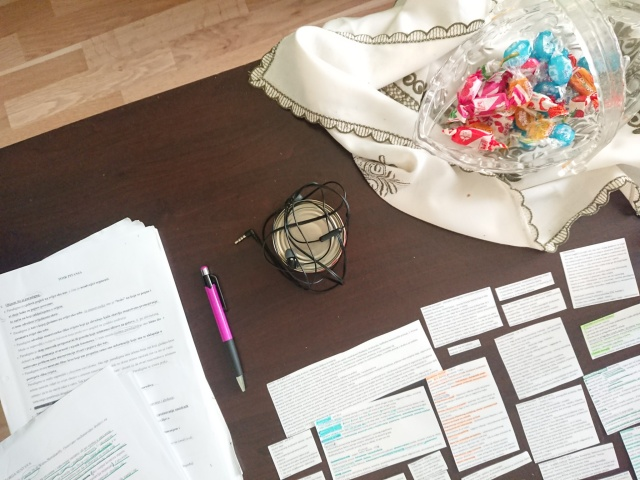Podravka Luncheon Meat 150g: (269, 196, 350, 275)
